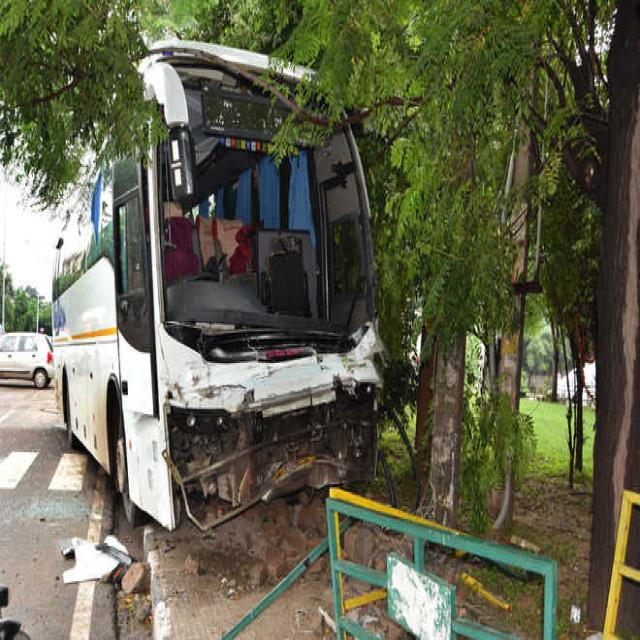accident: (52, 43, 381, 529)
car: (0, 332, 54, 388)
